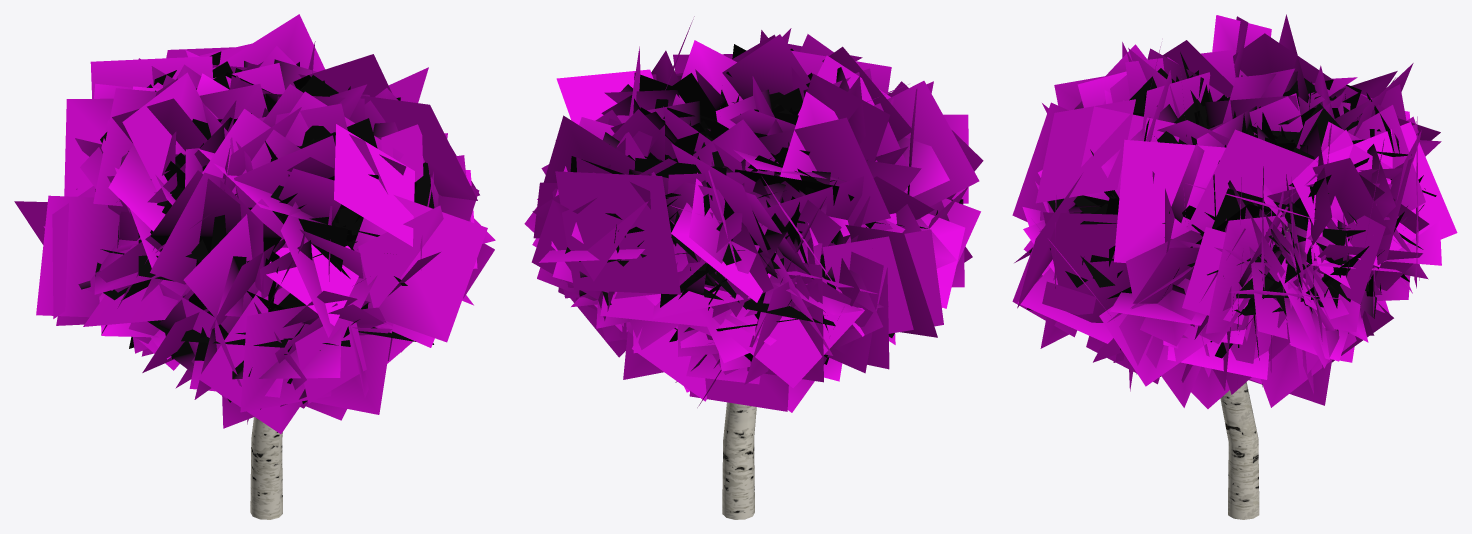
Rendered from SM_Birch_01.fbx.
3 renders of one model, left to right at view 1: azimuth 30°, elevation 25°; view 2: azimuth 150°, elevation 25°; view 3: azimuth 270°, elevation 25°, orthographic.
Parts seen in each view (by area): view 1: SM_Leaves, trunk; view 2: SM_Leaves, trunk; view 3: SM_Leaves, trunk.
Part boxes in pixels (x1,y1,x2,y2): SM_Leaves: (14,14,495,433); trunk: (250,417,282,519); SM_Leaves: (524,16,983,412); trunk: (722,402,756,519); SM_Leaves: (1012,14,1457,408); trunk: (1220,382,1259,519).
Bounding box in the file's own units: 8.76 × 9.65 × 8.59.
Materials: 2 (1 with a texture image).
